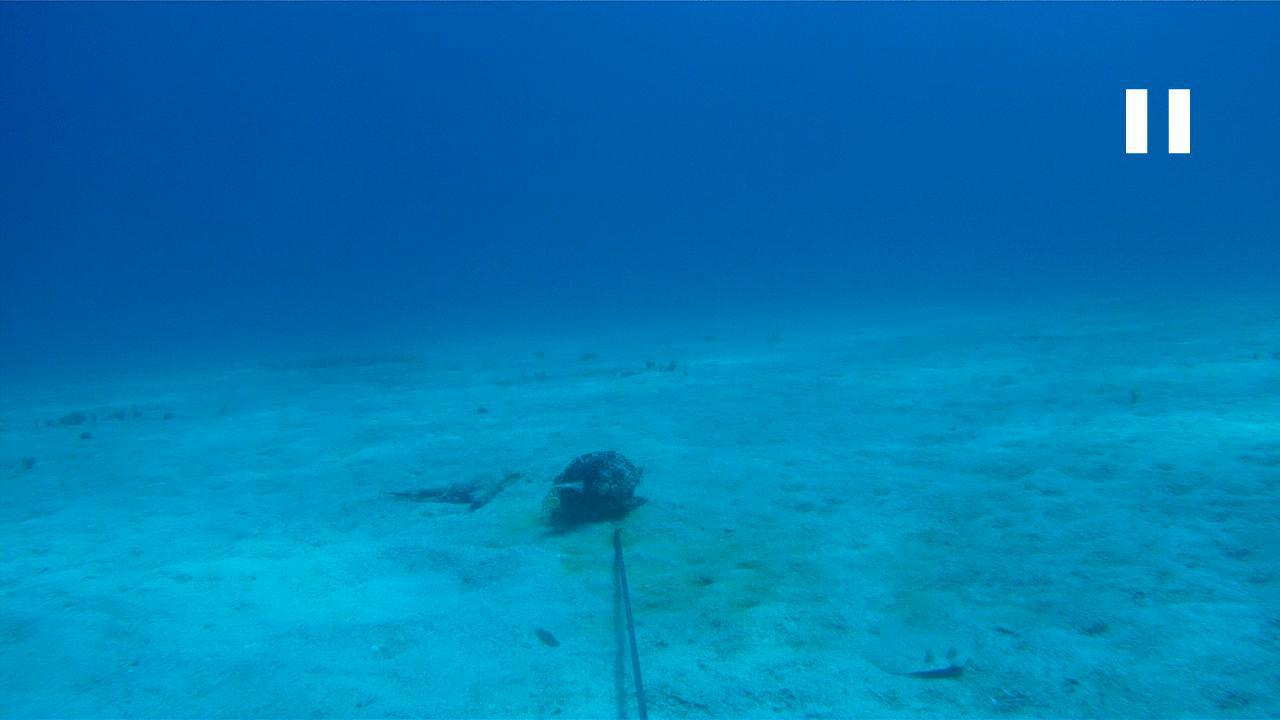bothus: (858, 619, 977, 680)
